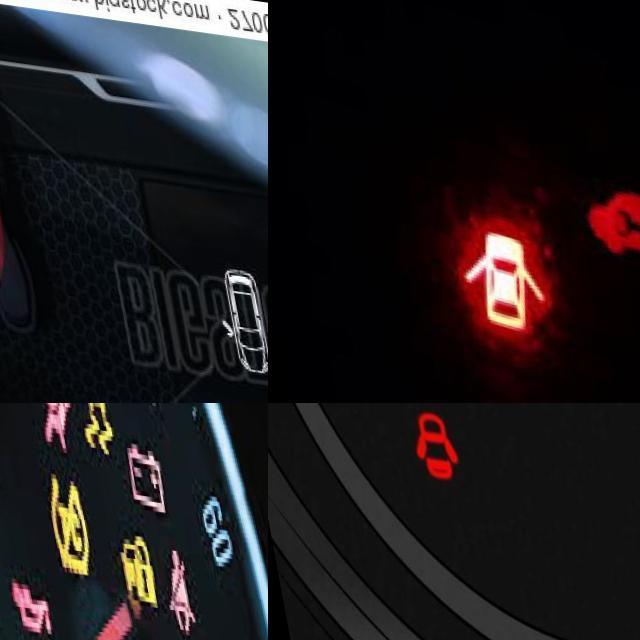Seat Belt: (150, 533, 188, 622)
